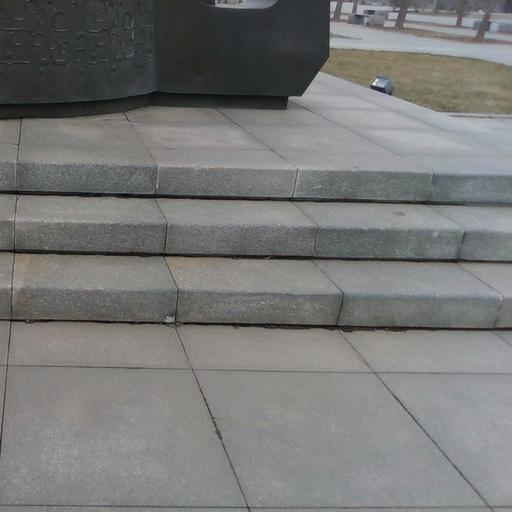stairs: (0, 94, 511, 328)
